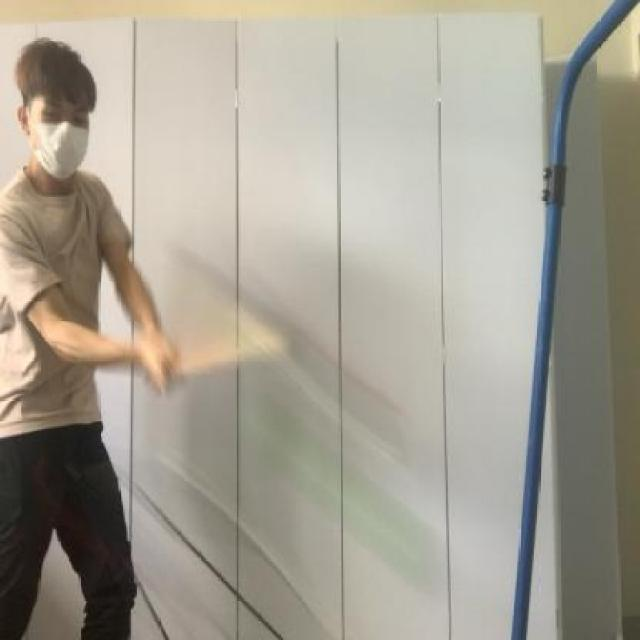baseball: (248, 407, 462, 601)
